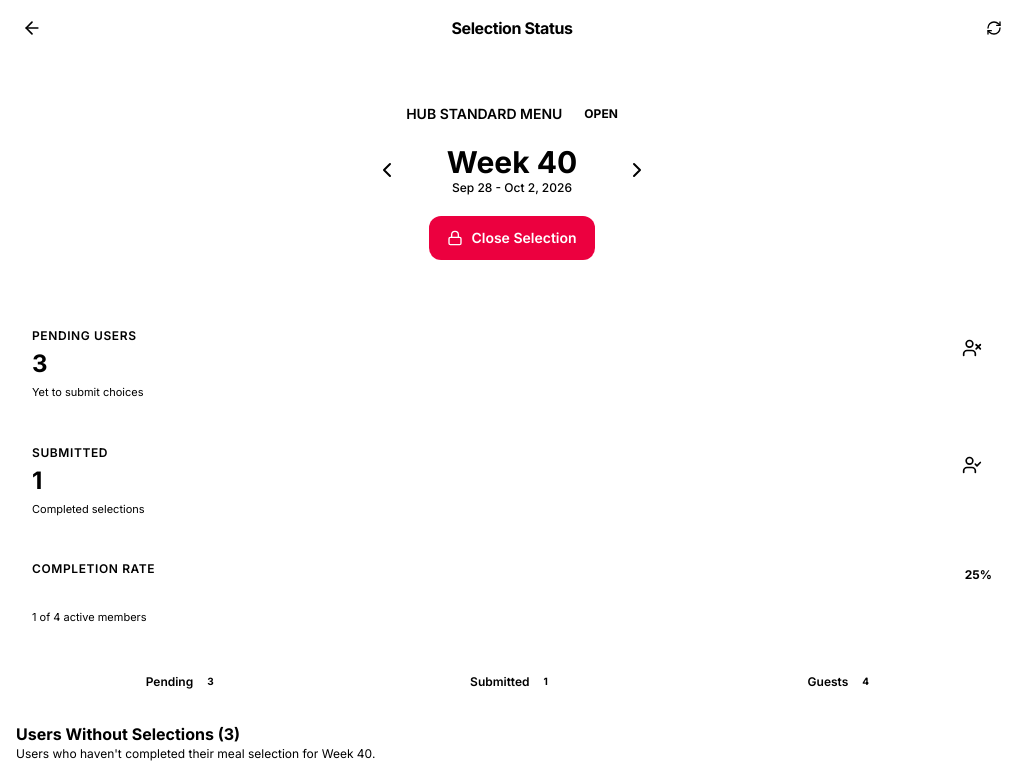
Test: SelectionStatus Admin Page › shows a progress indicator on the Guests tab when guest selections are refetching
The width and height of the screenshot is (1024, 768).
Click the button "Guests 4": point(841, 682) left=679, top=666, right=1004, bottom=698
(page scrolled)
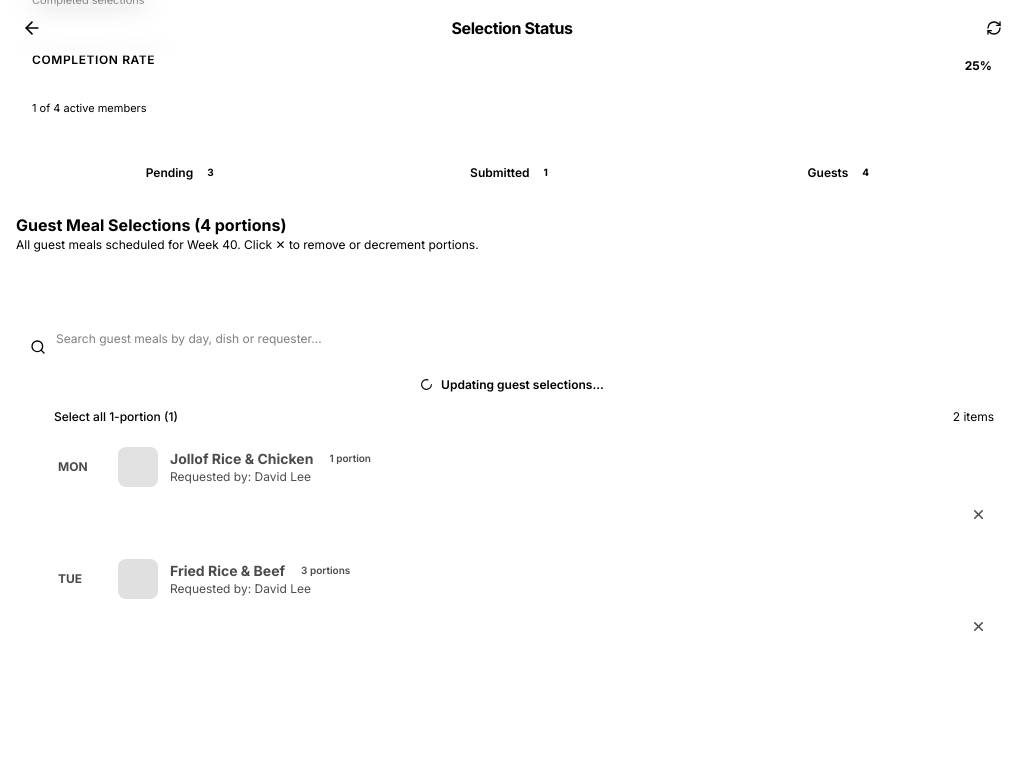
Check: the element with test id "guest-fetching-indicator" is shown, box left=420, top=376, right=604, bottom=392
Check: the text "Updating guest selections..." is shown, box left=441, top=376, right=604, bottom=392
